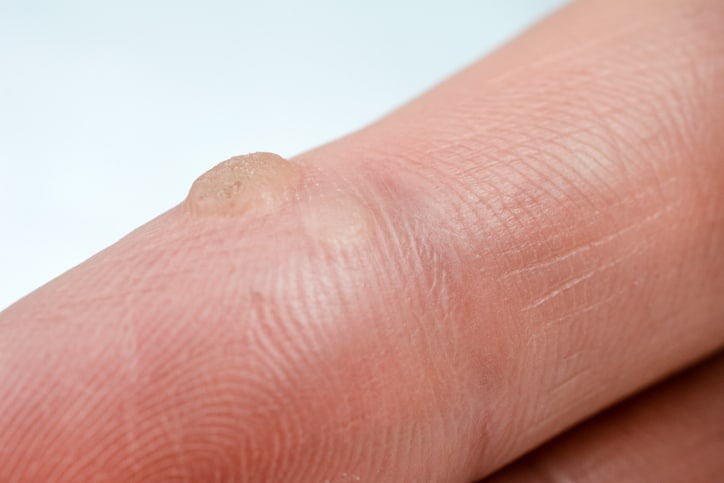Warts: (167, 153, 377, 264)
